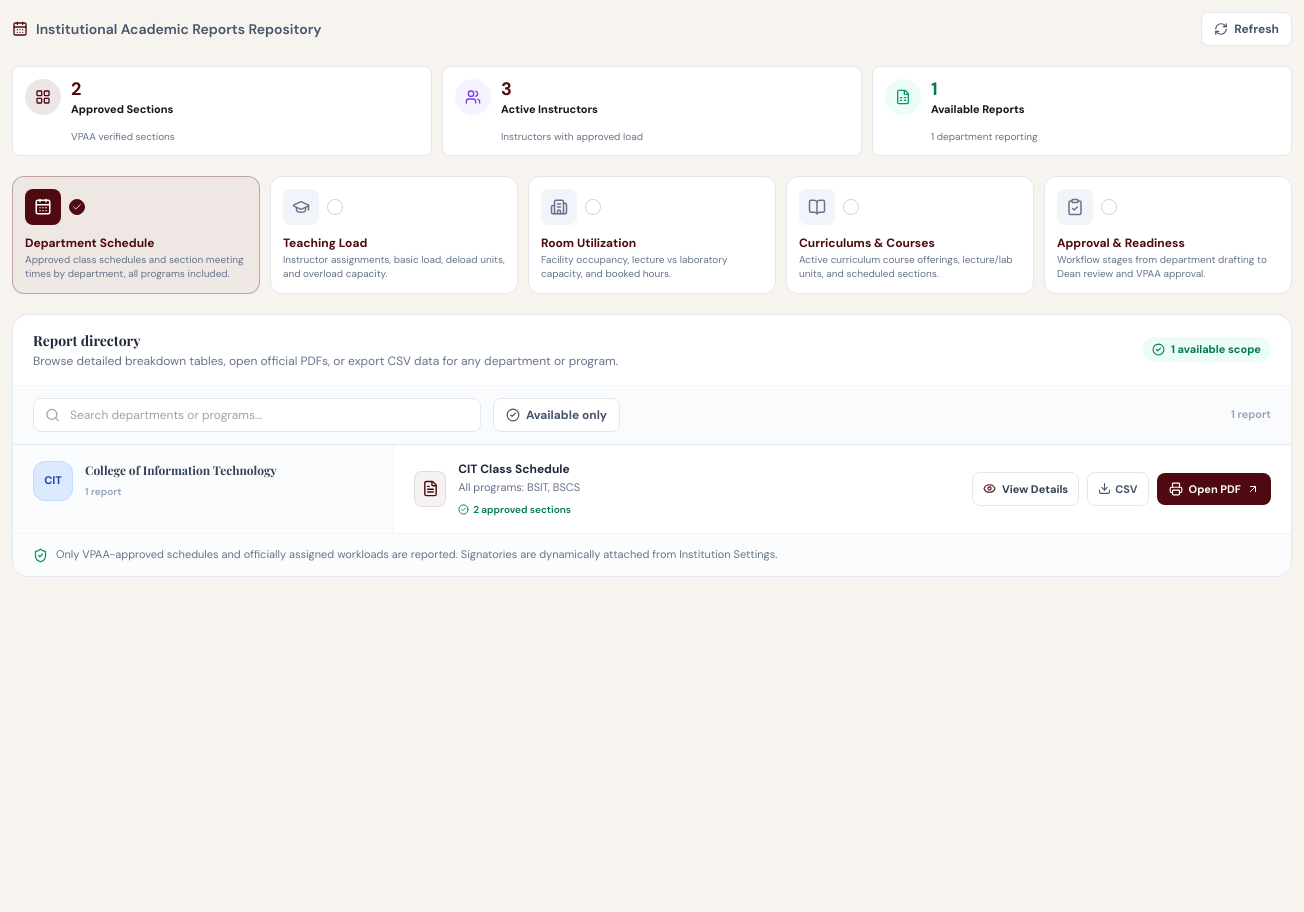
Test case: Reports directory › lists one report per department covering every program, found by any program name
The width and height of the screenshot is (1304, 912).
expect the text "CIT Class Schedule" is shown: met, box [458,460,570,476]
expect the text "All programs: BSIT, BSCS" is shown: met, box [458,480,580,494]
Type "Computer Science" into the search field at (257, 414), box [33,398,481,432]
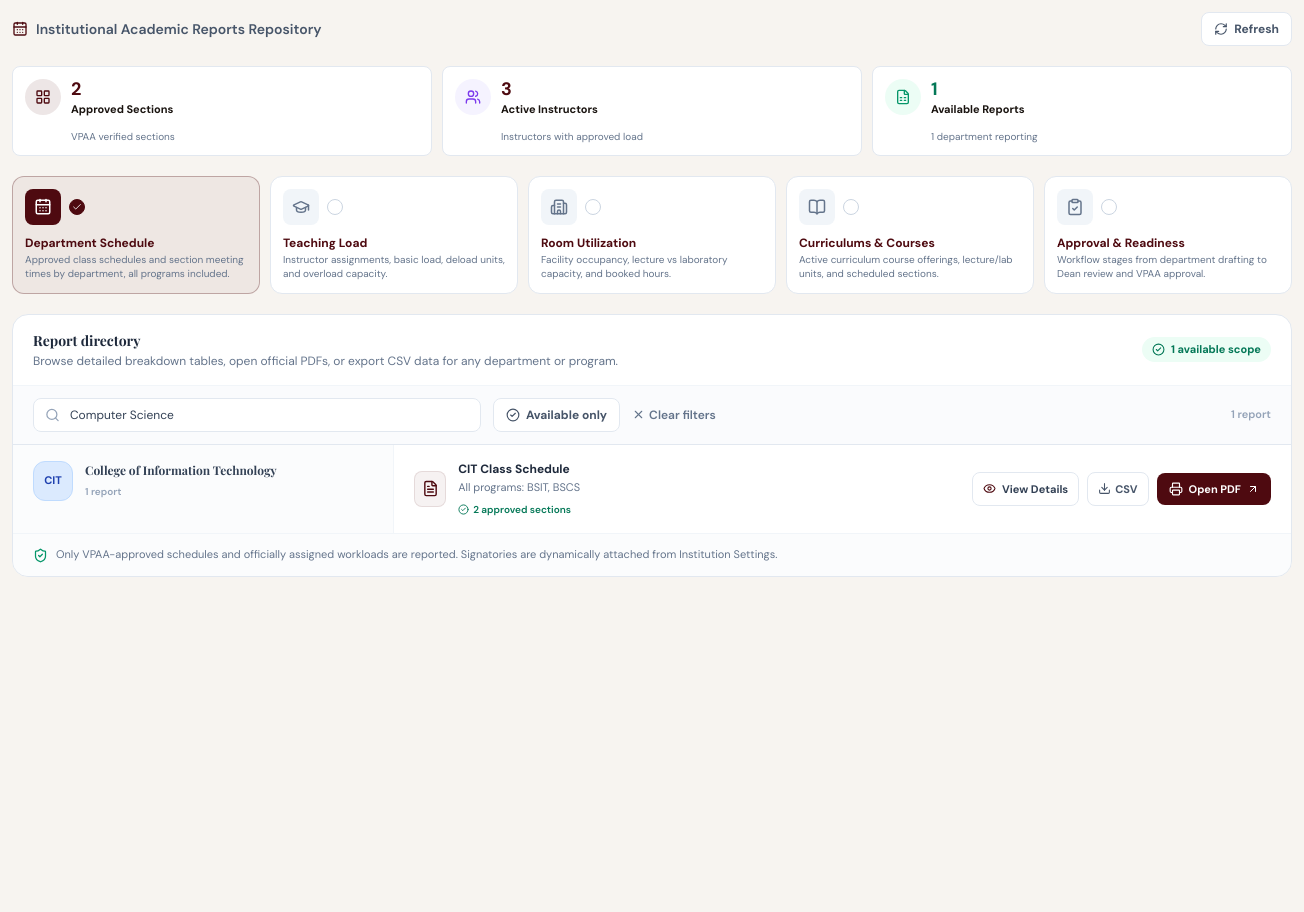
expect the text "CIT Class Schedule" is shown: met, box [458,460,570,476]
Replace the text in the search field with "Nursing" at (257, 414), box [33,398,481,432]
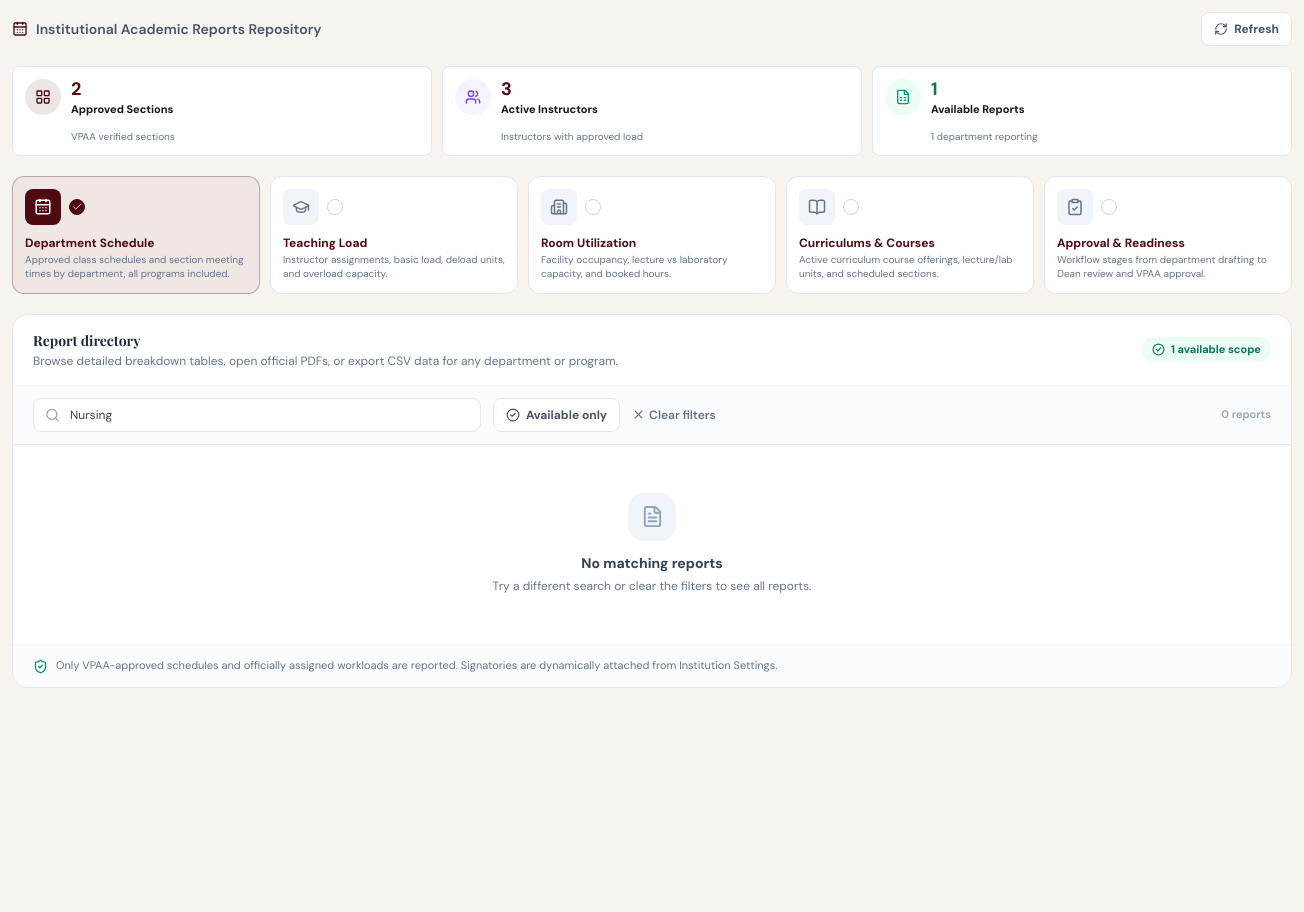
expect the text "No matching reports" is shown: met, box [581,552,723,572]
